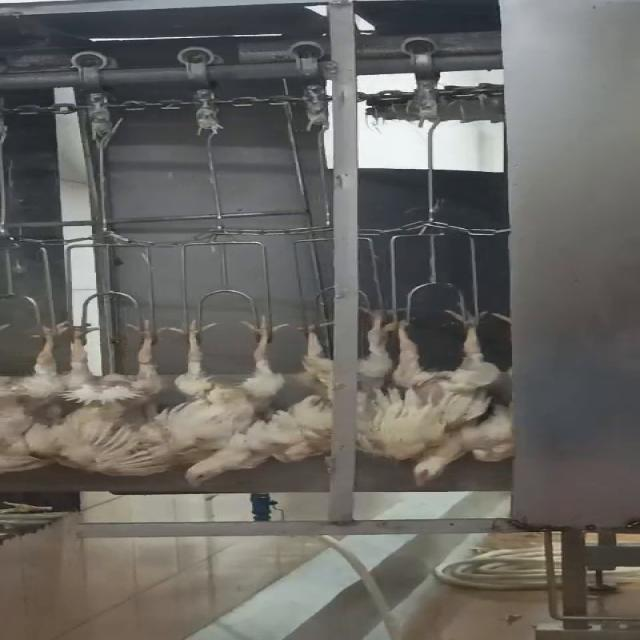chicken: (158, 312, 302, 494), (57, 322, 174, 482), (389, 301, 483, 492), (295, 302, 400, 468), (0, 319, 75, 477), (482, 301, 509, 460)
